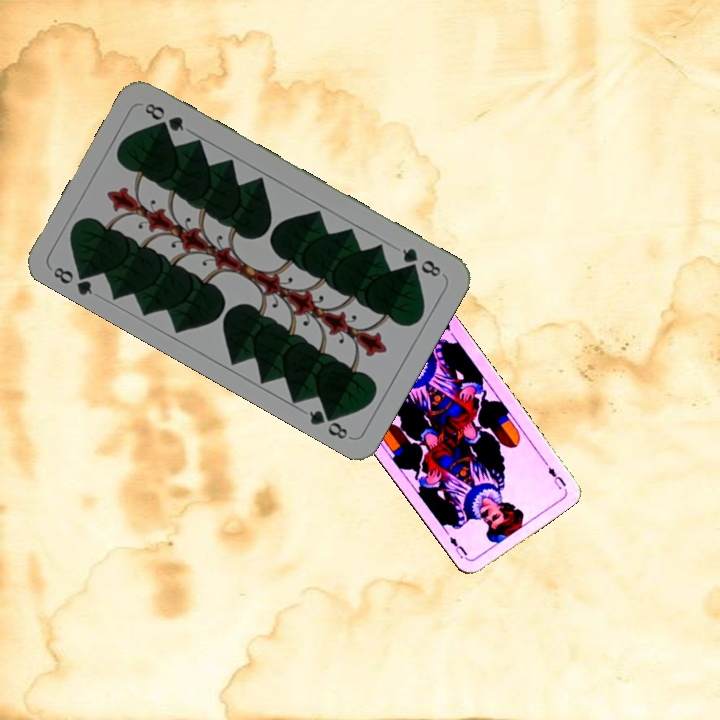EU: (544, 463, 568, 492)
G8: (49, 262, 96, 298), (398, 244, 444, 280)
